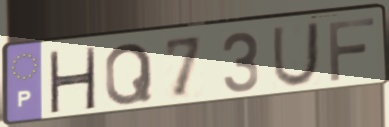3: (220, 30, 260, 95)
7: (164, 33, 205, 102)
F: (326, 15, 378, 84)
H: (46, 46, 99, 114)
Q: (102, 40, 155, 108)
U: (270, 19, 322, 89)
